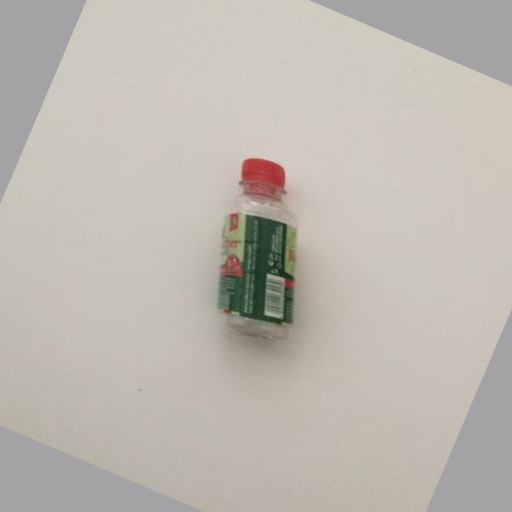Plastic_0: (214, 154, 299, 345)
